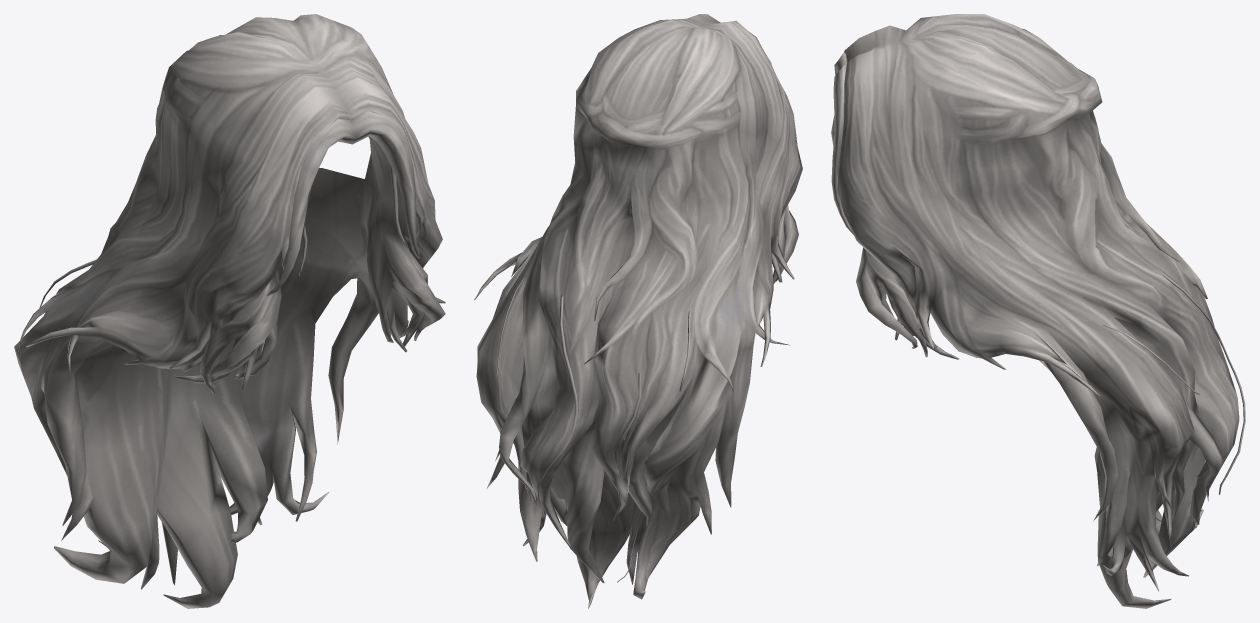
File: Hair1.glb
3 views of the same model, side by side, from view 1: azimuth 30°, elevation 25°; view 2: azimuth 150°, elevation 25°; view 3: azimuth 270°, elevation 25° (orthographic). The views are drawn at different scales.
Parts seen in each view (by area): view 1: hair1; view 2: hair1; view 3: hair1.
Boxes of the visible parts, <box> form: hair1: <box>14,14,445,608</box>; hair1: <box>474,14,802,608</box>; hair1: <box>831,14,1245,608</box>.
Bounding box in the file's own units: 25.6 × 43.74 × 28.32.
1 material, 1 textured.
